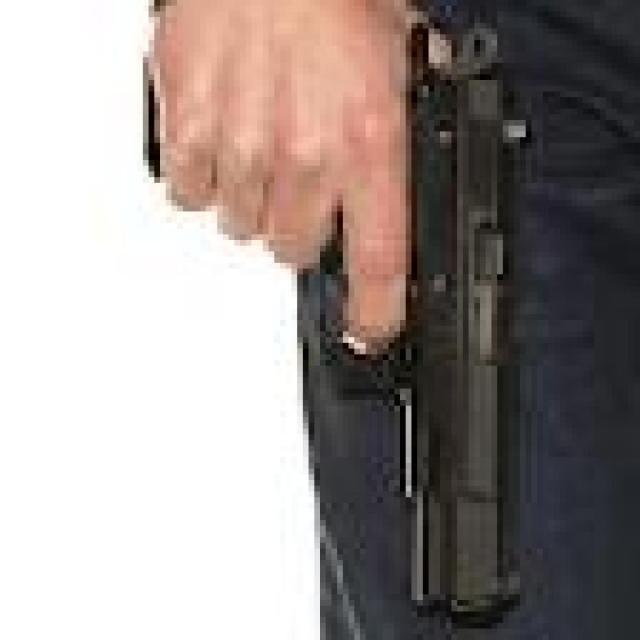pistol: (85, 8, 621, 630)
